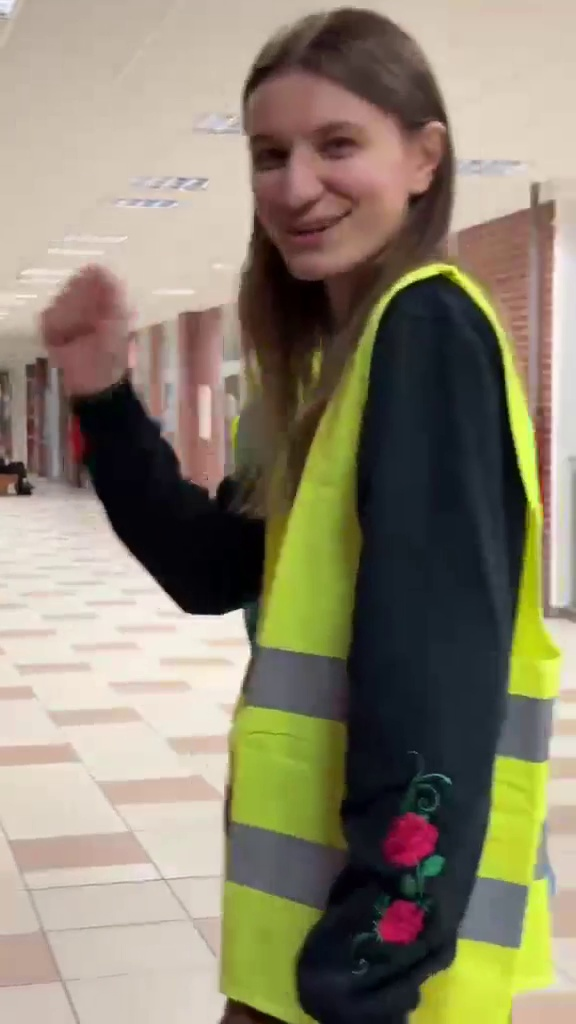vest: (110, 11, 545, 996)
